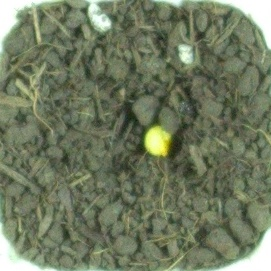chilli seed: (142, 123, 173, 158)
